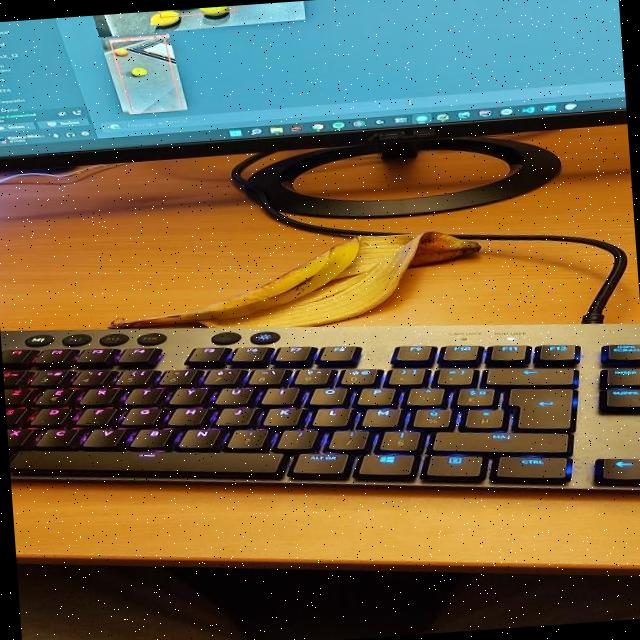banana-peel: (106, 224, 484, 338)
